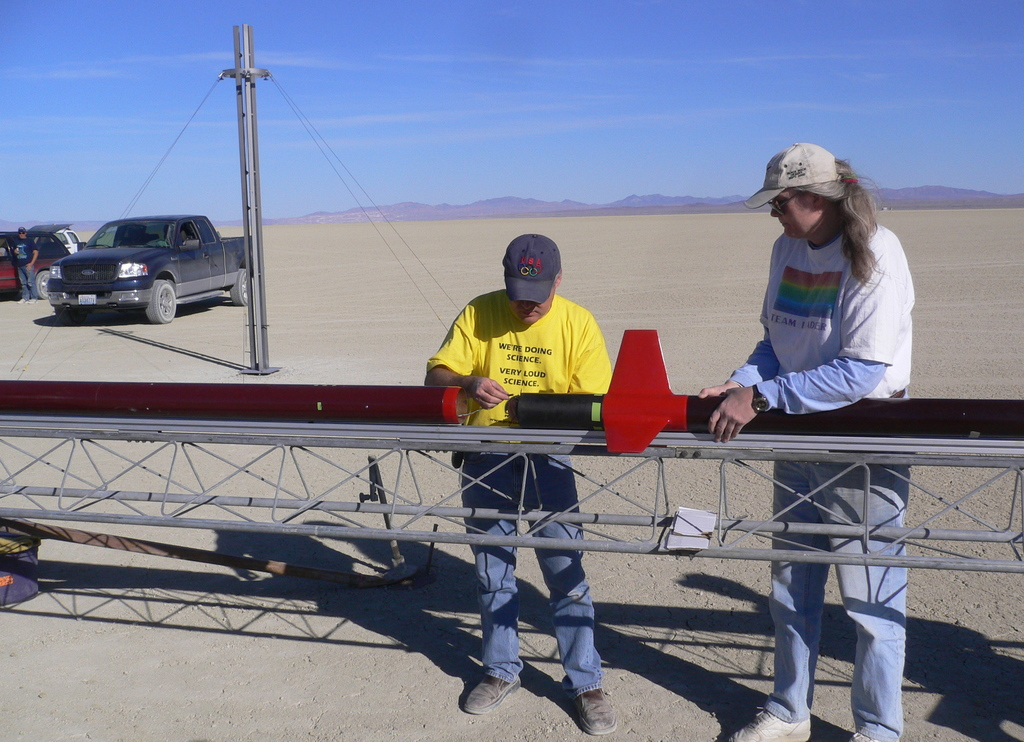cars: (0, 220, 67, 300), (52, 230, 82, 257)
